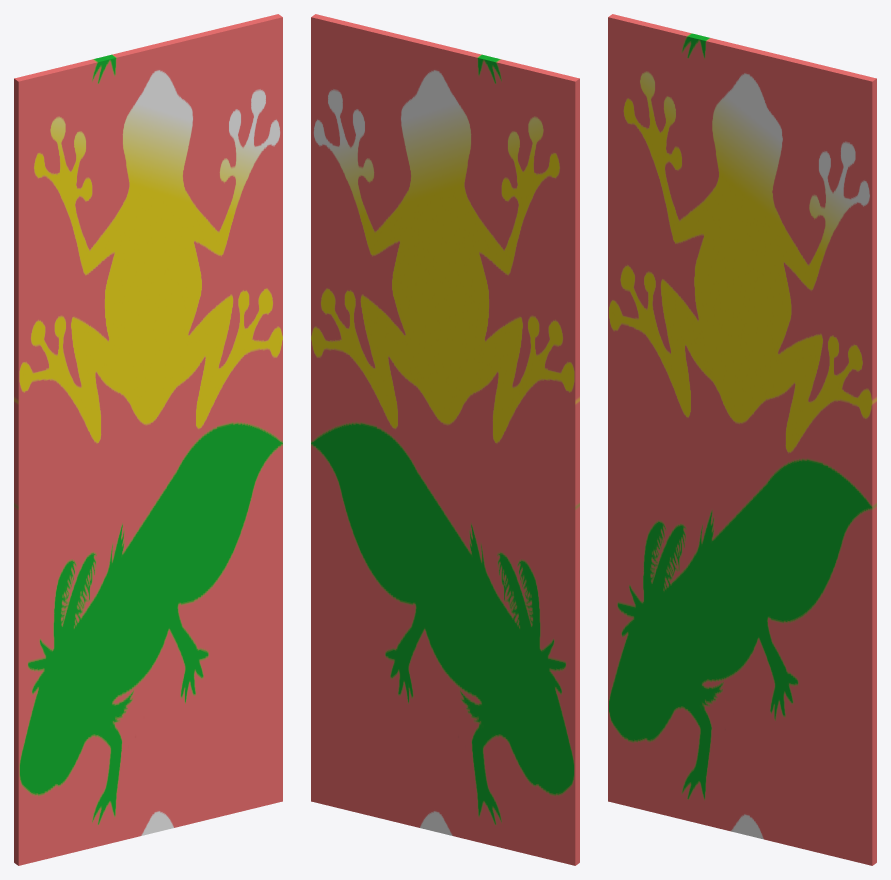
File: bandera3.obj
3 views of the same model, side by side, from view 1: azimuth 30°, elevation 25°; view 2: azimuth 150°, elevation 25°; view 3: azimuth 330°, elevation 25° (orthographic).
Parts seen in each view (by area): view 1: polySurface2183 pCylinder44; view 2: polySurface2183 pCylinder44; view 3: polySurface2183 pCylinder44.
Boxes of the visible parts, <box> form: polySurface2183 pCylinder44: <box>14,14,282,865</box>; polySurface2183 pCylinder44: <box>311,14,579,865</box>; polySurface2183 pCylinder44: <box>608,14,876,865</box>.
Bounding box in the file's own units: 3.64 × 10.32 × 0.1043.
1 material, 1 textured.
